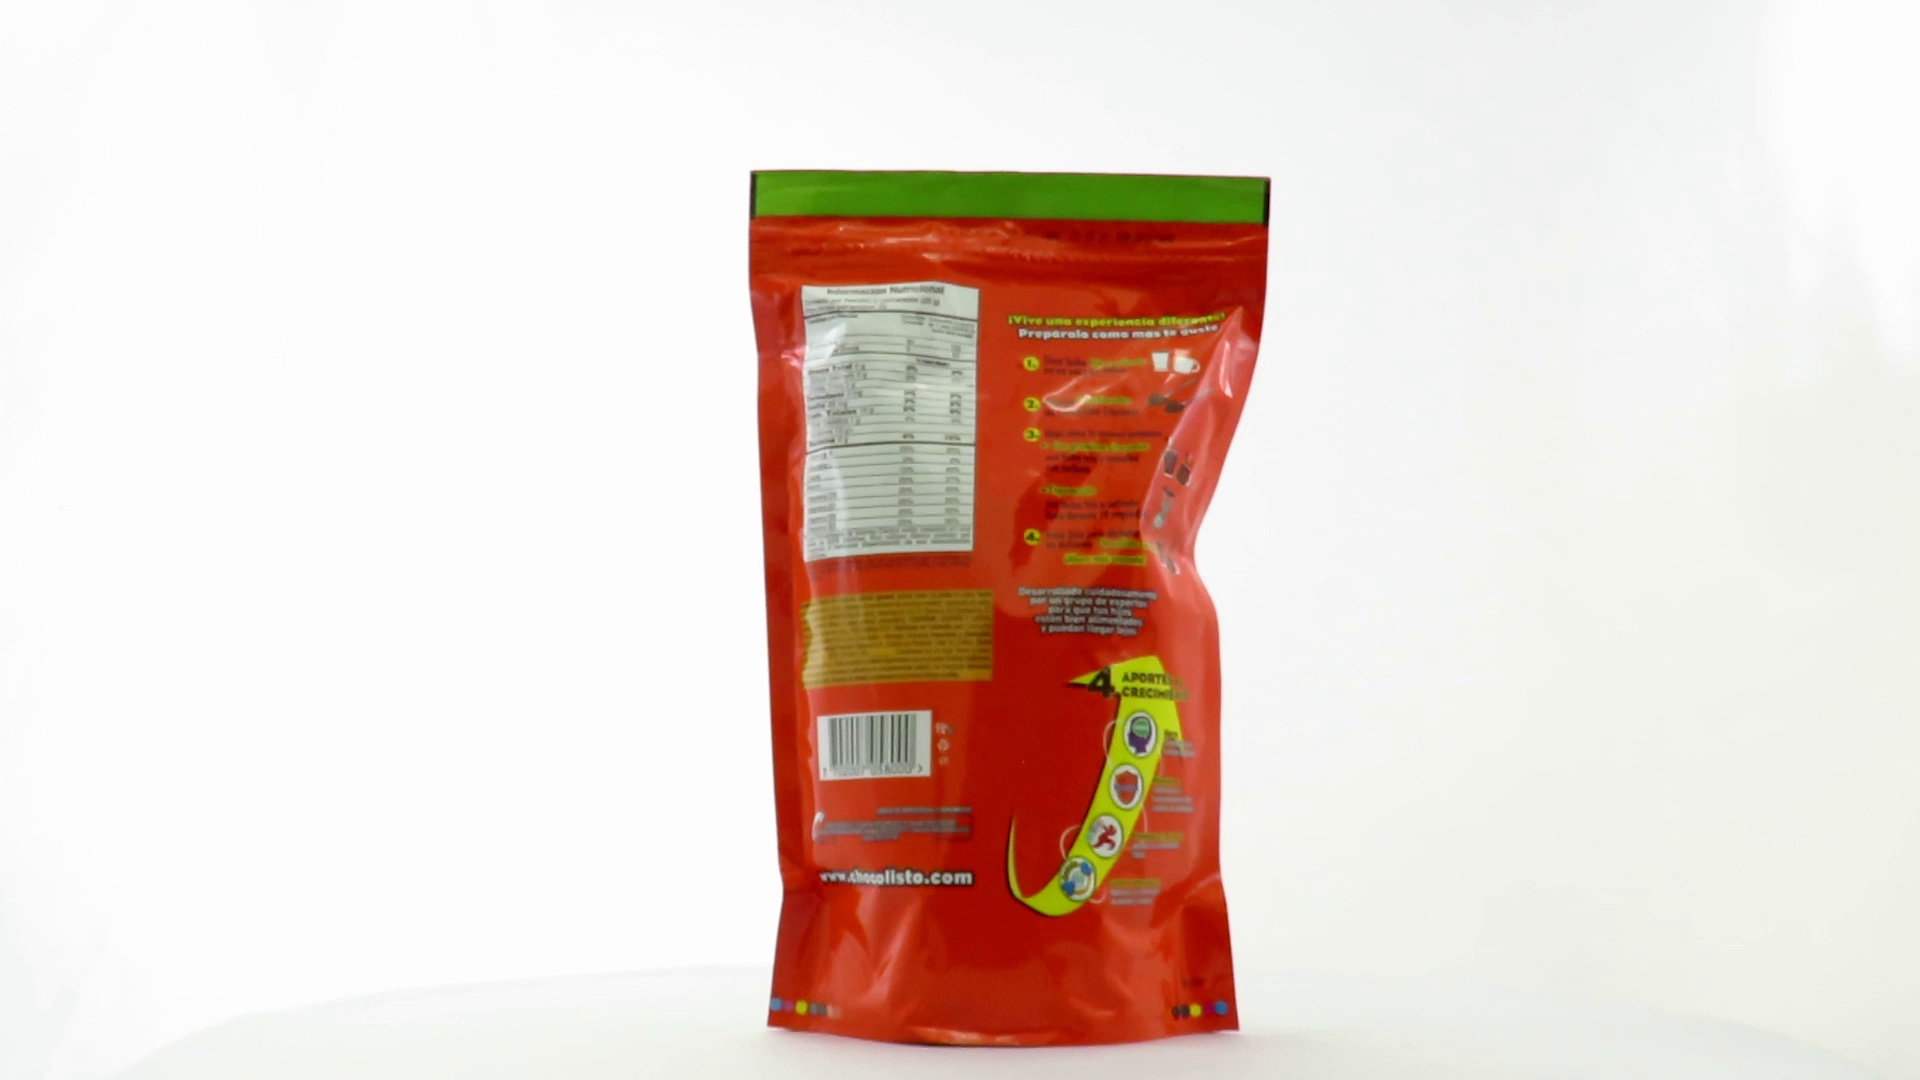COL0170102DYP50000: (742, 164, 1276, 1055)
